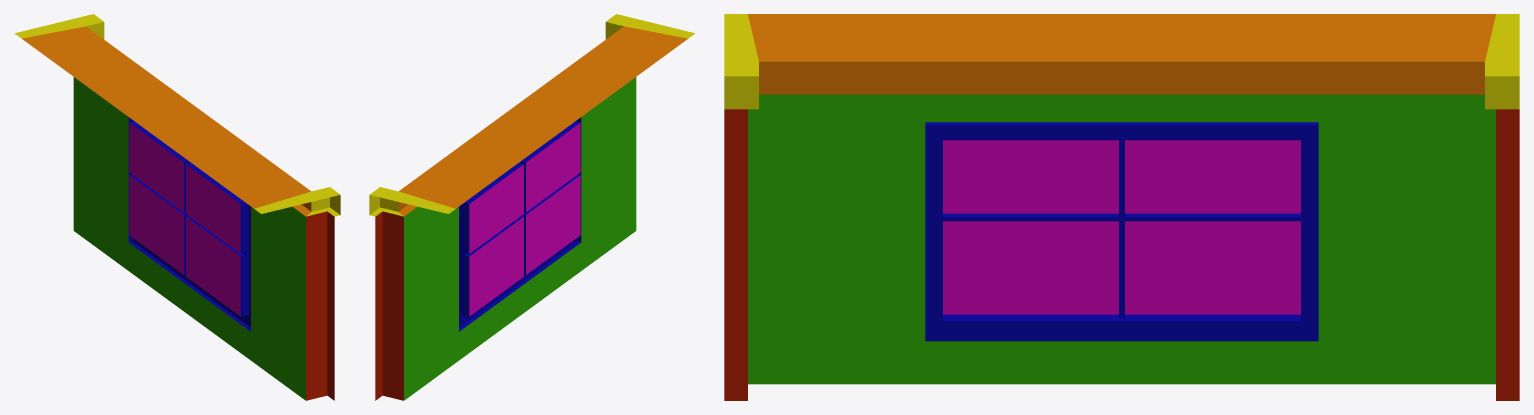
Rendered from mur_fenetre.fbx.
3 renders of one model, left to right at view 1: azimuth 30°, elevation 25°; view 2: azimuth 150°, elevation 25°; view 3: azimuth 270°, elevation 25°, orthographic. The views are drawn at different scales.
Visible parts, largest first — view 1: wall.001, window; view 2: wall.001, window; view 3: wall.001, window.
Boxes of the visible parts, left/top/right/bottom form: wall.001: left=15, top=14, right=340, bottom=400; window: left=128, top=117, right=250, bottom=331; wall.001: left=369, top=14, right=694, bottom=400; window: left=459, top=117, right=581, bottom=331; wall.001: left=724, top=14, right=1519, bottom=400; window: left=925, top=122, right=1318, bottom=341.
Bounding box in the file's own units: 306 × 754 × 1650.
